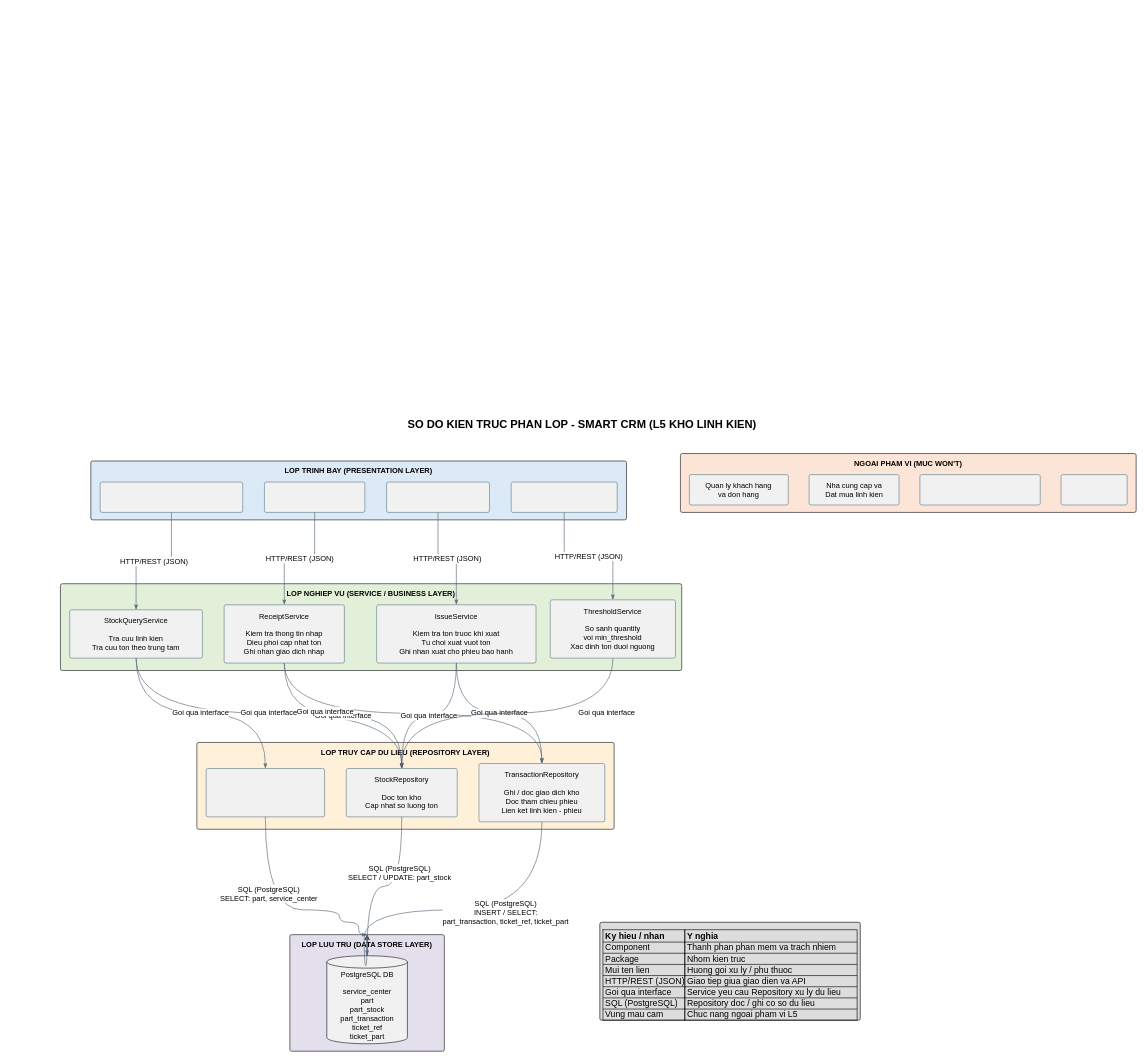
Image size: 1147x1062. Some labels were removed from this diagram. The centre of each missing label's shape, as x and y in pixels:
"AI / Du bao" belongs at point 1093,489.
"CatalogRepository Doc danh muc linh kien Doc thong tin trung tam" belongs at point 265,792.
"Man hinh Canh bao va Lich su giao dich" belongs at point 564,496.
"Man hinh Danh sach linh kien va Ton kho" belongs at point 171,496.
"Man hinh Nhap kho" belongs at point 314,496.
"Man hinh Xuat kho cho phieu bao hanh" belongs at point 437,496.
"Ton kho san pham ban le" belongs at point 979,489.
